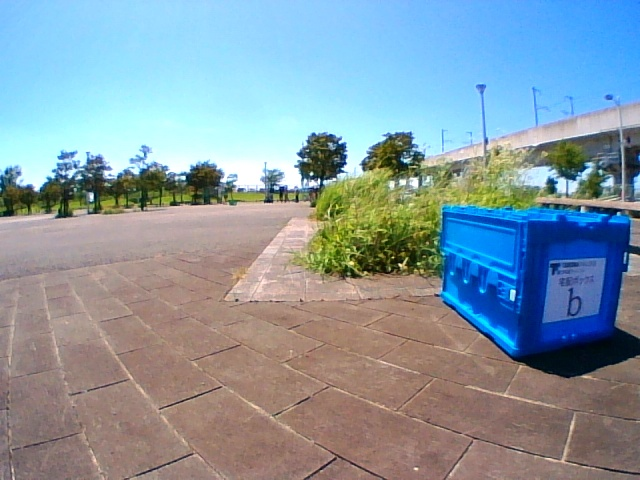blue_box: (443, 208, 629, 358)
tag_b: (550, 268, 590, 316)
